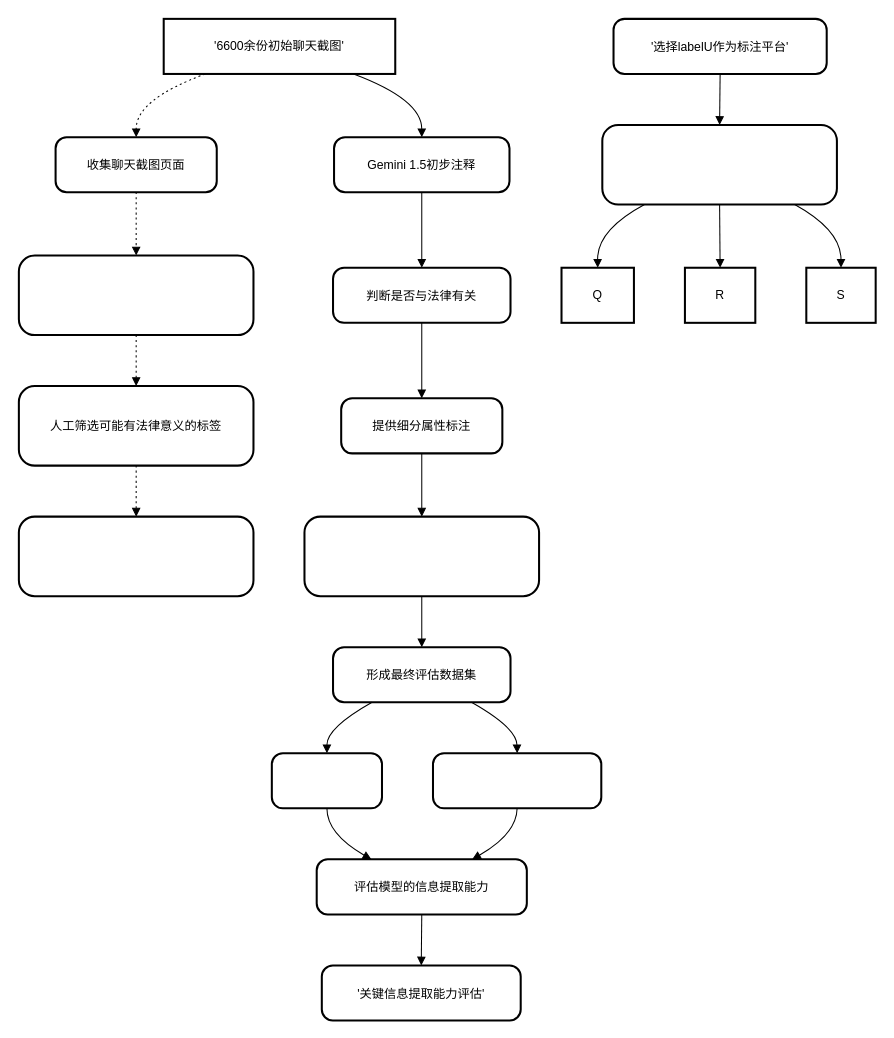
Image size: 894x1038. Some labels were removed from this diagram. The centre of each missing label's shape, as x and y in pixels:
"'143个样本'" belongs at point 326,780.
"'4663条训练数据集'" belongs at point 516,780.
"'这个图片主要和什么案由有关'" belongs at point 719,164.
"使用规则方法提交llm进行分类标签" belongs at point 135,295.
"包括dialog_name和会话级属性" belongs at point 421,556.
"确定ScreenshotLegalBench页面" belongs at point 135,556.
